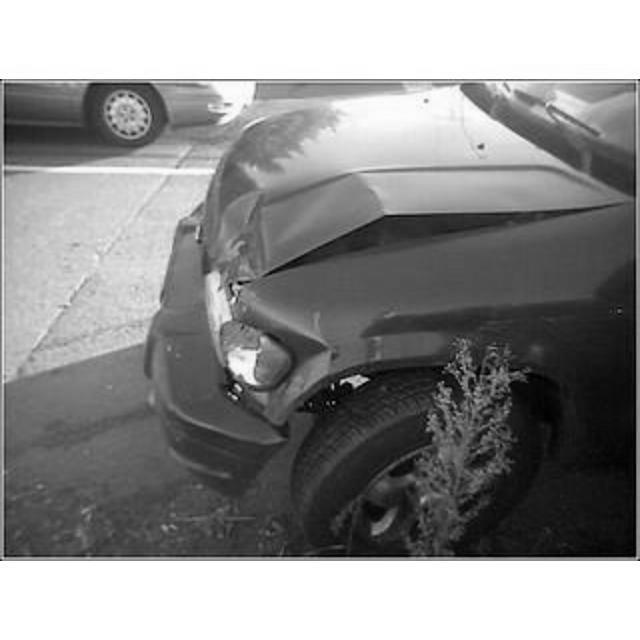bonnet-dent: (210, 127, 456, 285)
fender-dent: (300, 293, 486, 393)
